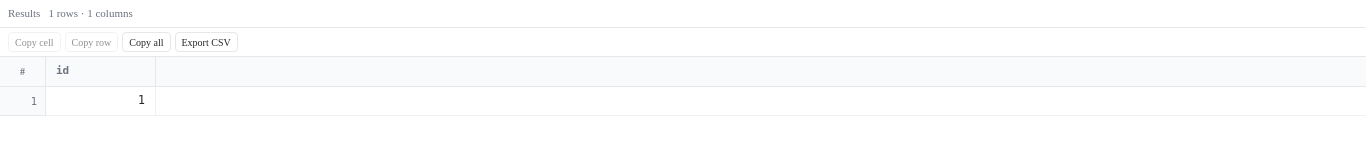
ResultsPanel › surfaces an actionable file-write failure
Click the button "Export CSV".
click(206, 42)  # box [174,32,238,52]
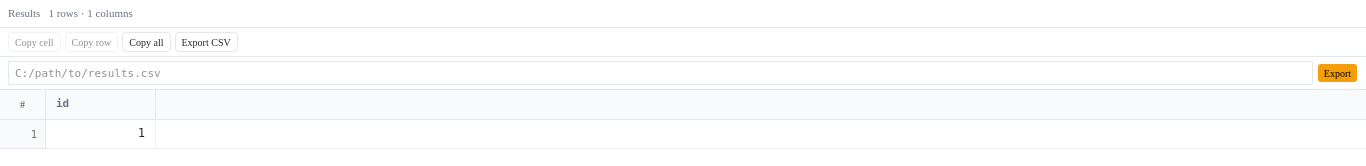
Type "C:/out.csv" into the field named "CSV file path".
click(660, 73); type("C:/out.csv")  # box [8,61,1313,85]
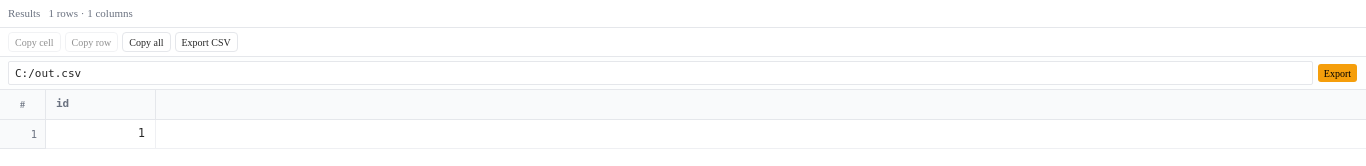
Click the button "Export".
click(1337, 73)  # box [1317,63,1358,83]
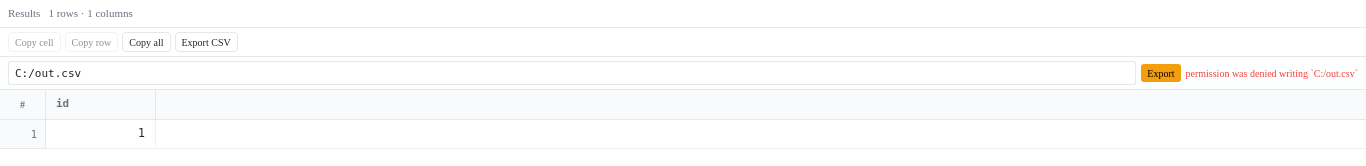
Now the text "permission was denied writing `C:/out.csv`" is shown, box [1186,66,1358,80]
